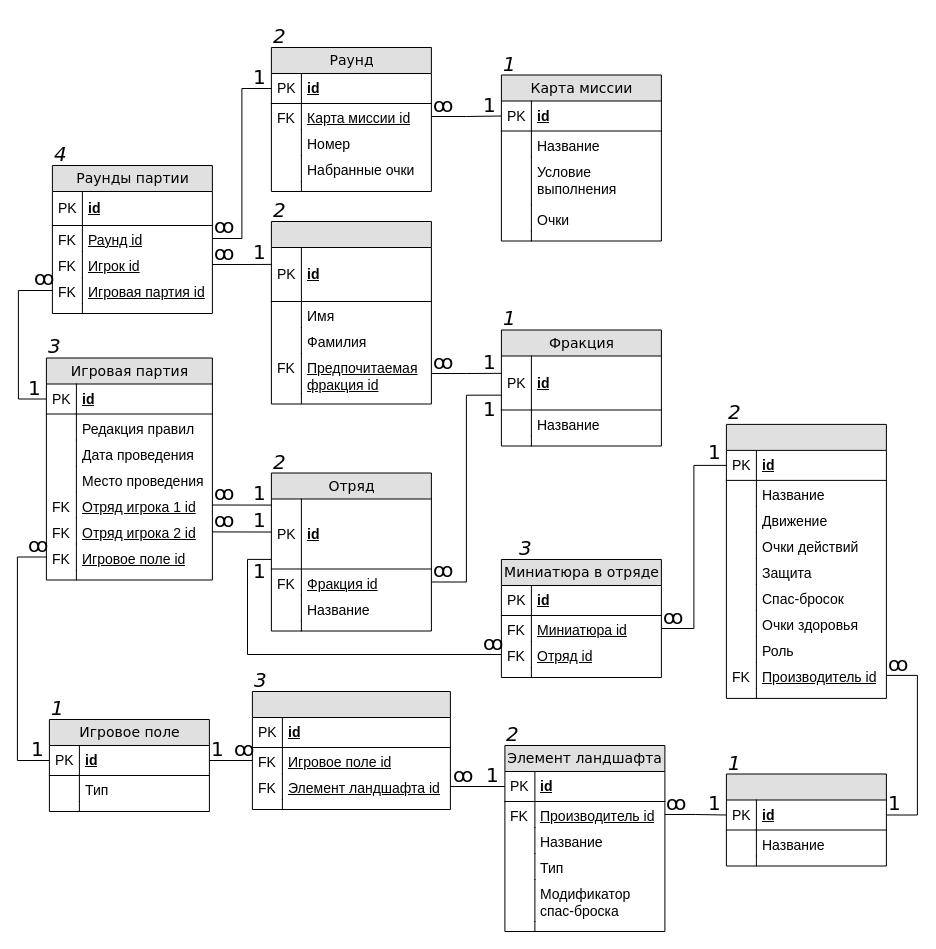
Image size: 936x949. Some labels were removed from this diagram. Each missing label, with the box of its shape:
Игрок: (270, 220, 431, 404)
Ландшафт поля: (251, 690, 450, 810)
Миниатюра: (725, 423, 886, 698)
Производитель: (725, 773, 886, 866)
